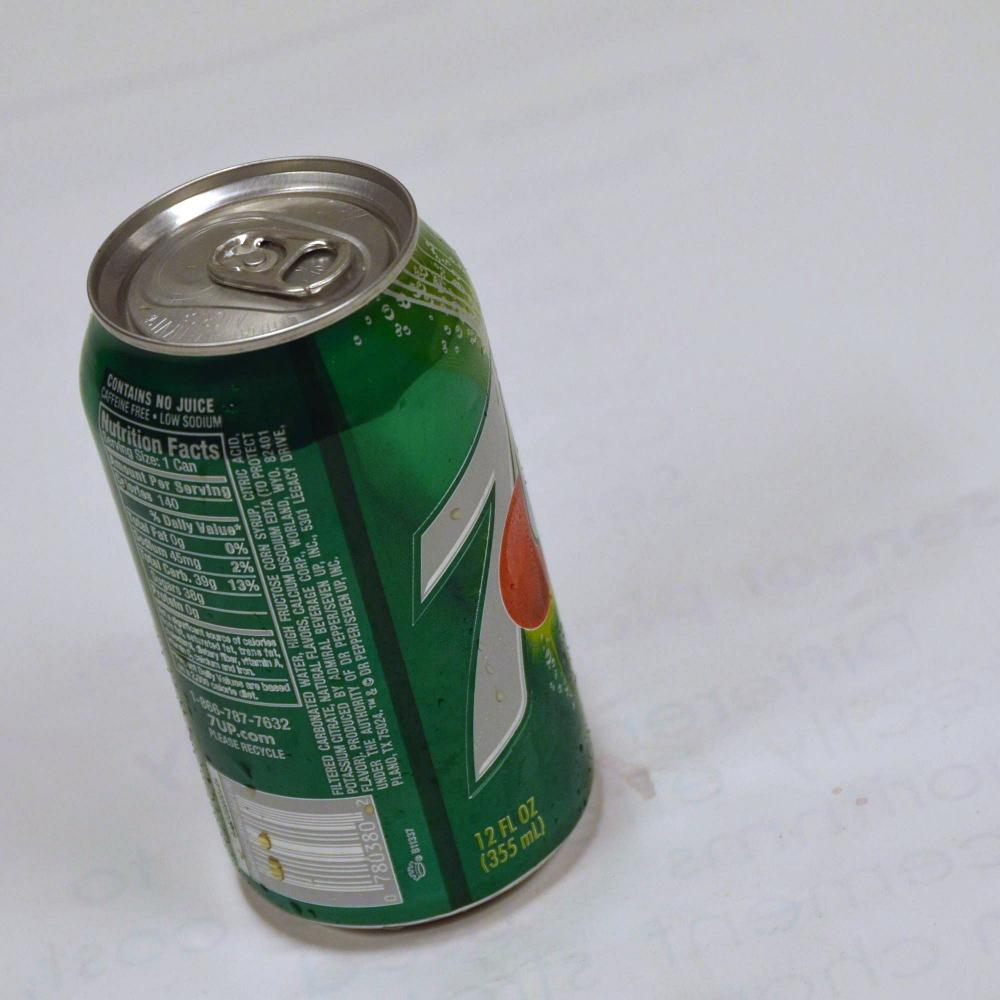Metal: (46, 158, 626, 950)
